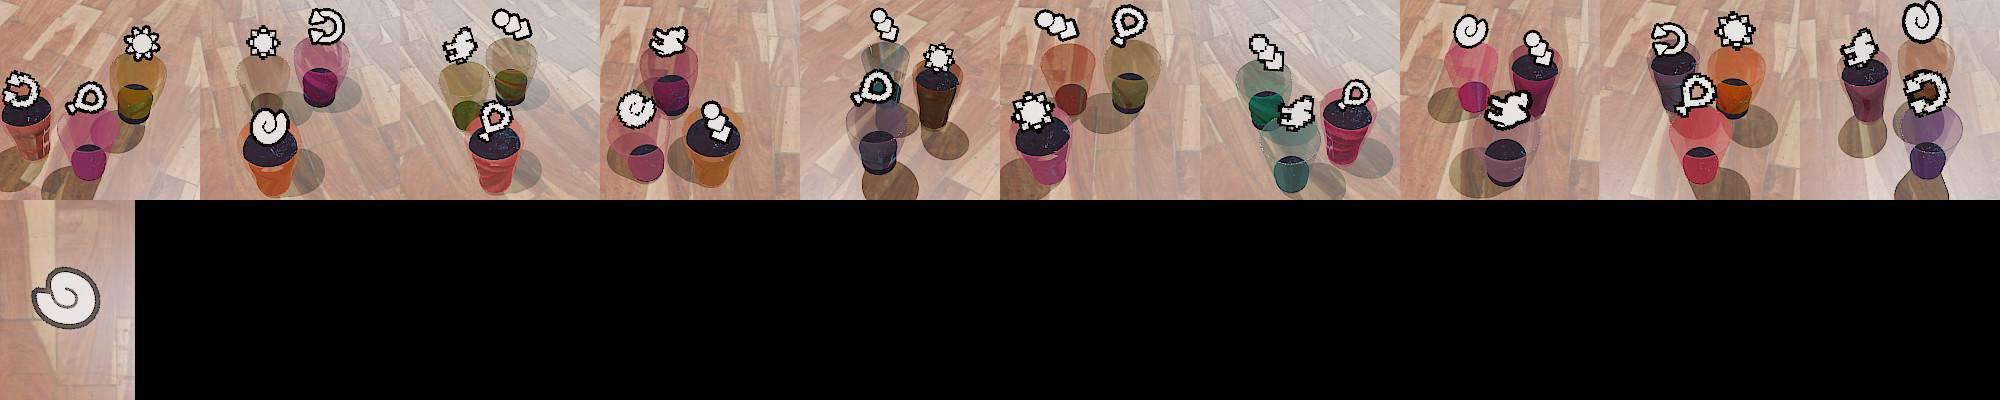icon: (29, 264, 102, 330), (1902, 69, 1952, 117), (1675, 71, 1718, 118), (1485, 88, 1533, 130), (849, 68, 899, 108), (1107, 4, 1151, 50), (1011, 89, 1055, 131), (1901, 1, 1943, 45), (1713, 10, 1758, 51), (1839, 27, 1880, 69), (616, 89, 658, 129), (249, 107, 291, 146), (3, 70, 42, 111), (65, 79, 107, 117), (1034, 9, 1079, 45), (699, 99, 735, 144), (1277, 93, 1316, 131), (477, 99, 515, 139), (306, 6, 344, 46), (441, 25, 480, 64), (124, 23, 162, 61), (1247, 32, 1284, 71), (491, 8, 533, 41), (245, 24, 282, 61), (649, 24, 689, 59), (1453, 13, 1489, 50), (1522, 29, 1556, 68), (922, 42, 957, 74), (1338, 76, 1371, 108), (1653, 23, 1685, 55), (870, 8, 899, 42)
